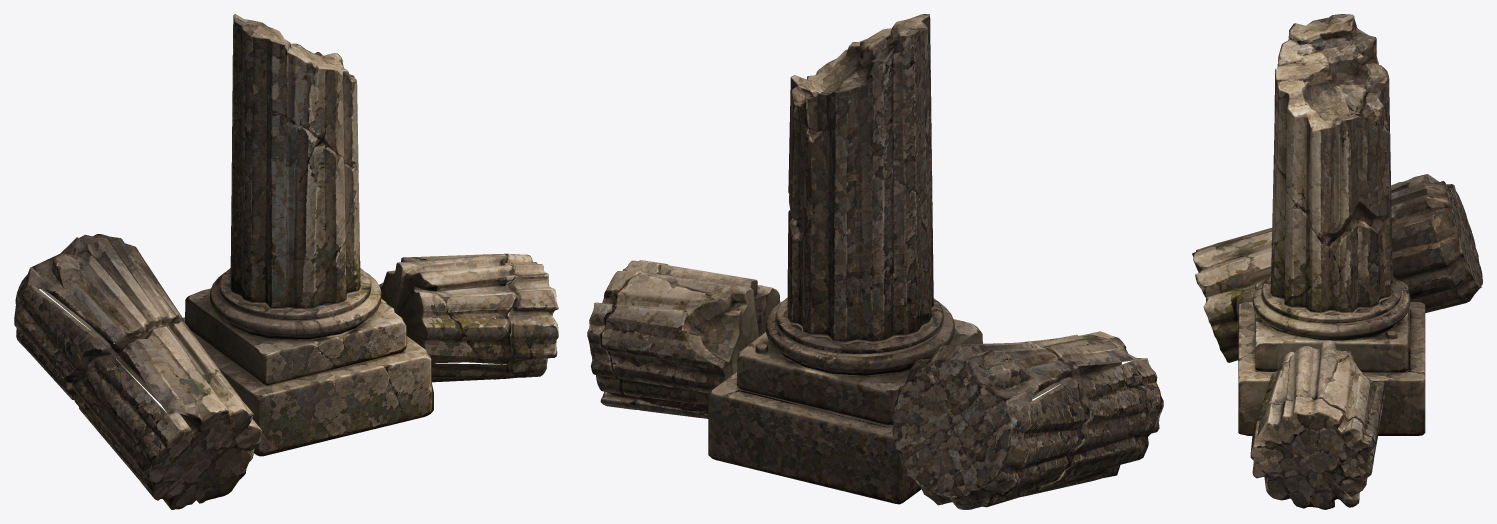
File: dungeon-prop-broken-column.glb
The picture shows the model from 3 angles, left to right: view 1: azimuth 30°, elevation 25°; view 2: azimuth 150°, elevation 25°; view 3: azimuth 270°, elevation 25°; orthographic projection. The views are drawn at different scales.
Visible parts, largest first — view 1: broken-column; view 2: broken-column; view 3: broken-column.
Part boxes in pixels (x1=…): broken-column: x1=14, y1=14, x2=558, y2=509; broken-column: x1=587, y1=14, x2=1163, y2=509; broken-column: x1=1192, y1=14, x2=1482, y2=509.
Size of the model in its own units: 1.68 by 1.5 by 1.02.
1 material, 1 textured.
